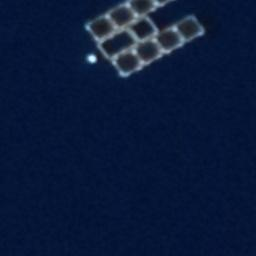square_solid: (172, 12, 210, 46), (130, 35, 169, 68), (82, 12, 121, 45), (109, 45, 146, 79), (151, 23, 186, 56), (104, 2, 141, 31)
